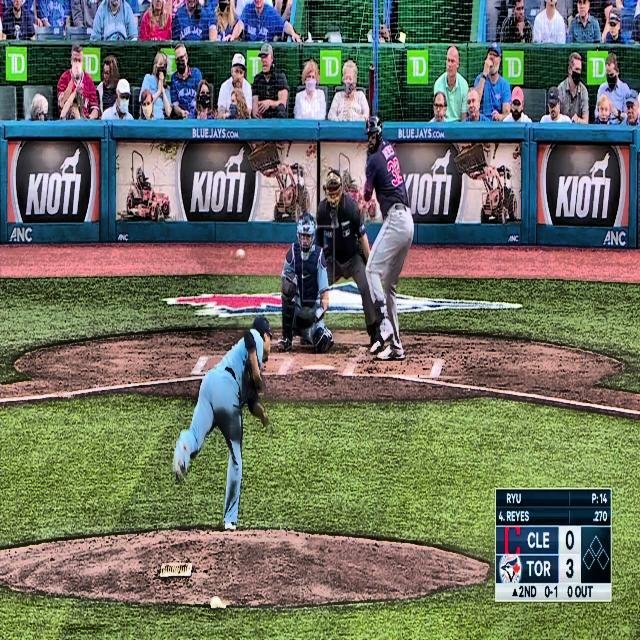baseball: (236, 248, 245, 259)
